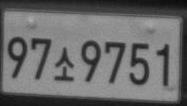1: (153, 43, 177, 87)
5: (129, 42, 151, 86)
7: (104, 40, 126, 83), (30, 37, 52, 79)
9: (6, 35, 27, 79), (80, 39, 101, 82)
소: (53, 46, 74, 82)
